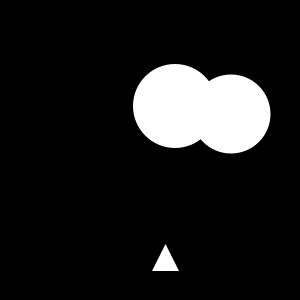rectangle: (133, 64, 217, 148), (192, 74, 270, 154)
triangle: (152, 244, 179, 271)
